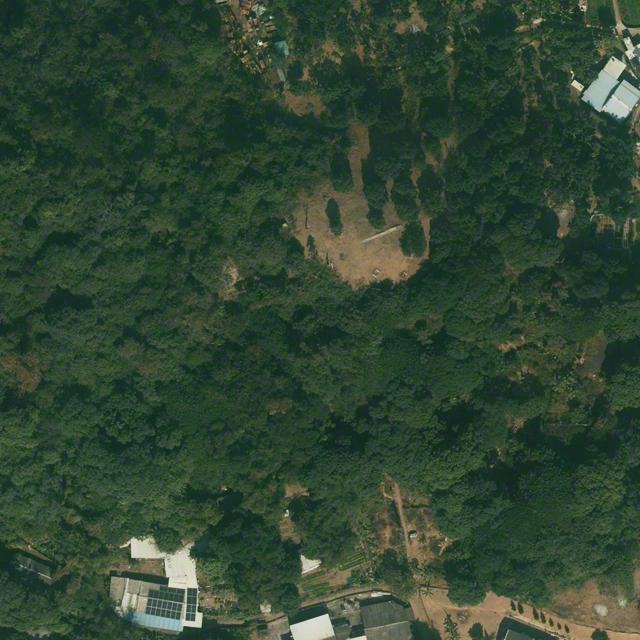panel: (145, 589, 184, 620), (185, 588, 198, 621), (159, 586, 185, 595)
